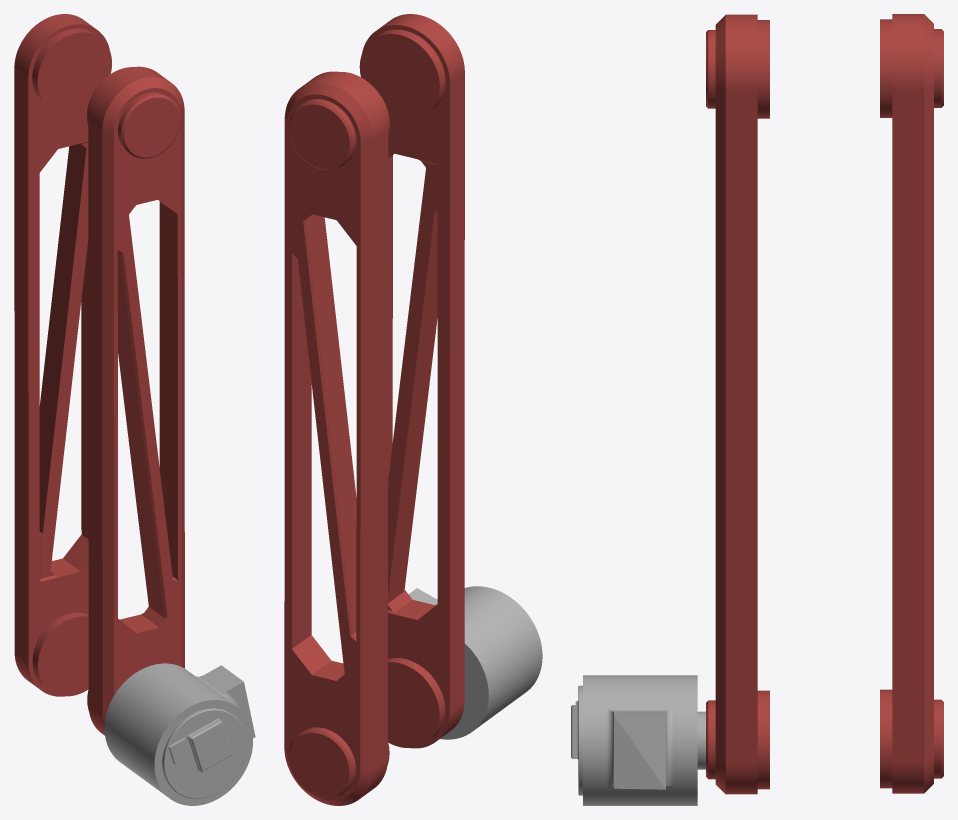
Rendered from upperArm.glb.
3 renders of one model, left to right at view 1: azimuth 30°, elevation 25°; view 2: azimuth 150°, elevation 25°; view 3: azimuth 270°, elevation 25°, orthographic. The views are drawn at different scales.
Parts seen in each view (by area): view 1: upperArm; view 2: upperArm; view 3: upperArm.
Part boxes in pixels (box(x1,y1,x2,y2)): upperArm: box(14, 14, 255, 805); upperArm: box(284, 14, 542, 805); upperArm: box(571, 14, 943, 805).
Bounding box in the file's own units: 3.22 × 17.48 × 7.56.
